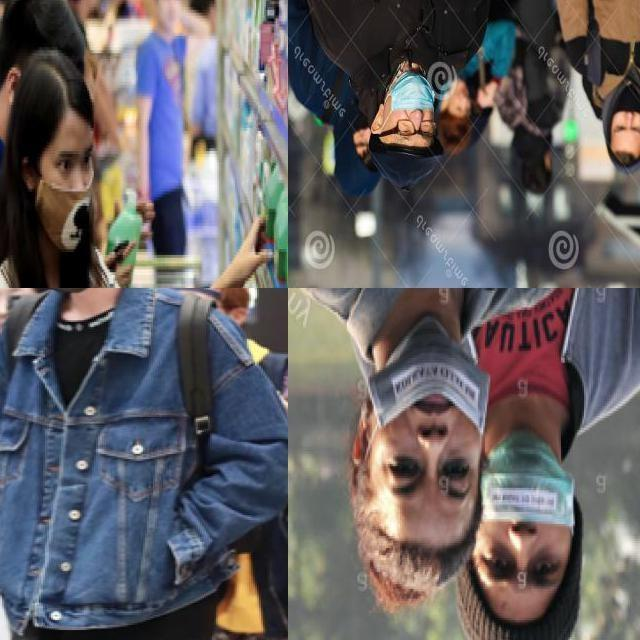hairnet: (375, 343, 479, 453), (479, 444, 580, 545), (383, 74, 435, 123), (612, 88, 639, 127)
